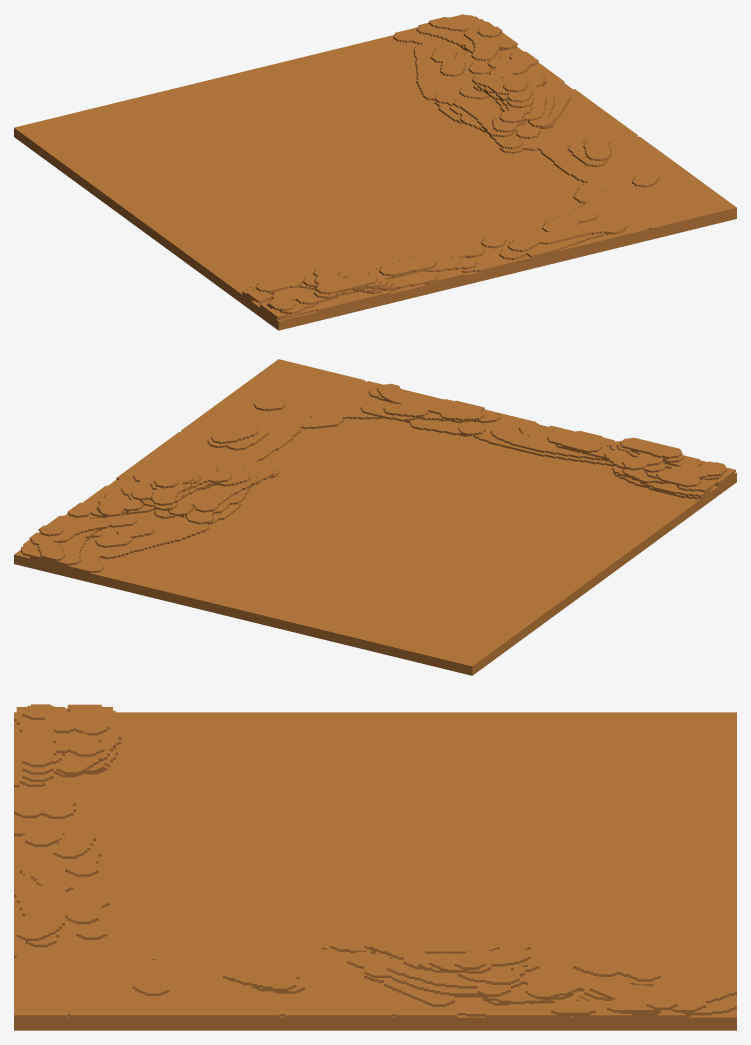
The model's file is land-sand-1.obj.
3 renders of one model, top to bottom at view 1: azimuth 30°, elevation 25°; view 2: azimuth 150°, elevation 25°; view 3: azimuth 270°, elevation 25°, orthographic. The views are drawn at different scales.
Bounding box in the file's own units: 25.6 × 1.3 × 25.6.
1 material, 1 textured.
